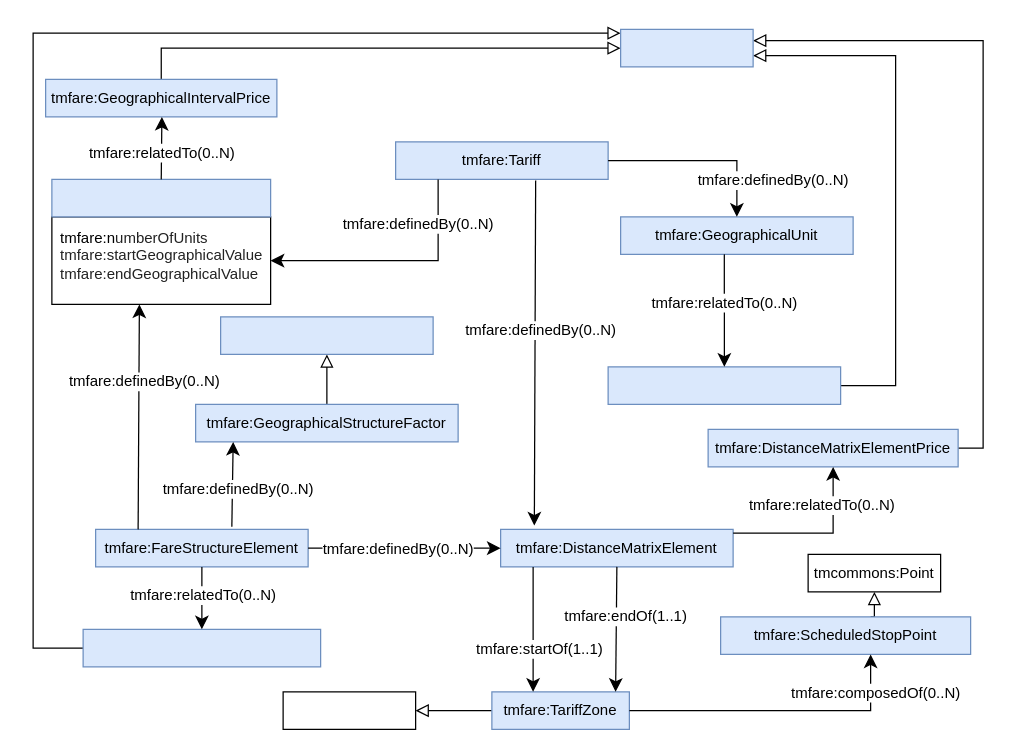
This 1018x751 diagram has some shape labels left out. Here are the shapes that lost their labels. From the top down, the centre of each, then its label:
At point 686,47: "tmfare:FarePrice".
At point 161,197: "tmfare:GeographicalInterval".
At point 326,335: "tmfare:FareStructureFactor".
At point 724,385: "tmfare:GeographicalUnitPrice".
At point 201,647: "tmfare:FareStructureElementPrice".
At point 349,710: "tmcommons:Zone".
